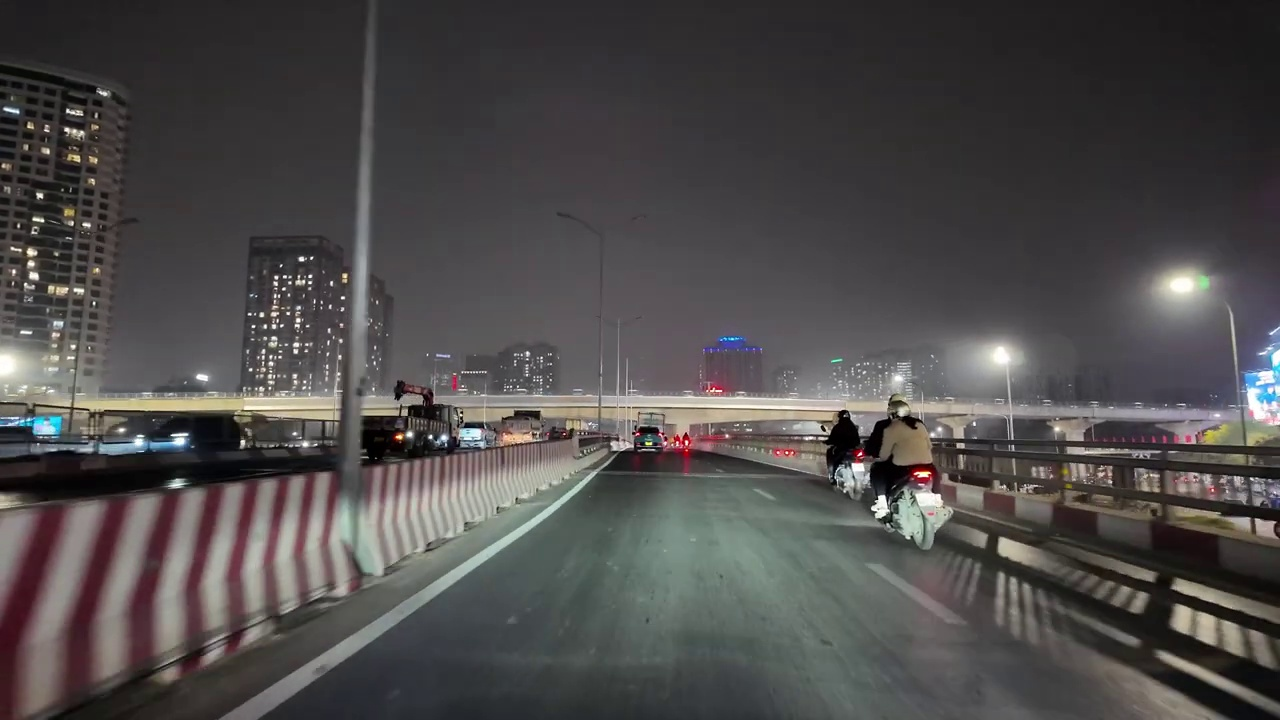acesa: (1160, 268, 1207, 304), (983, 342, 1018, 372), (0, 352, 15, 378)
